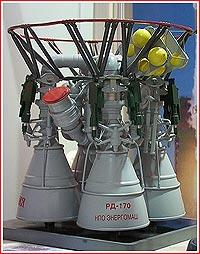thruster: (73, 153, 153, 232), (14, 146, 82, 225), (130, 152, 189, 221), (69, 151, 97, 188)
